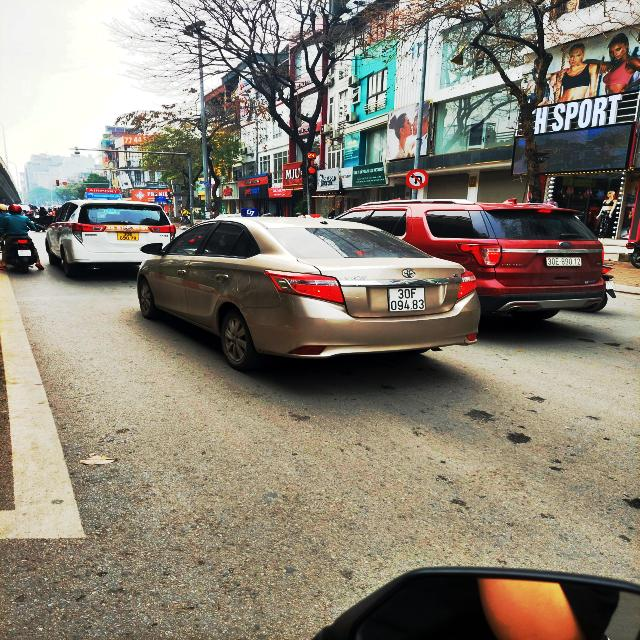license_plate: (389, 287, 426, 312), (547, 258, 583, 267), (118, 232, 140, 242), (19, 251, 32, 257)
